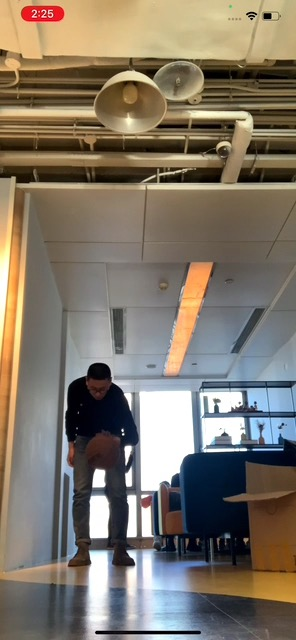ball: (85, 433, 122, 470)
